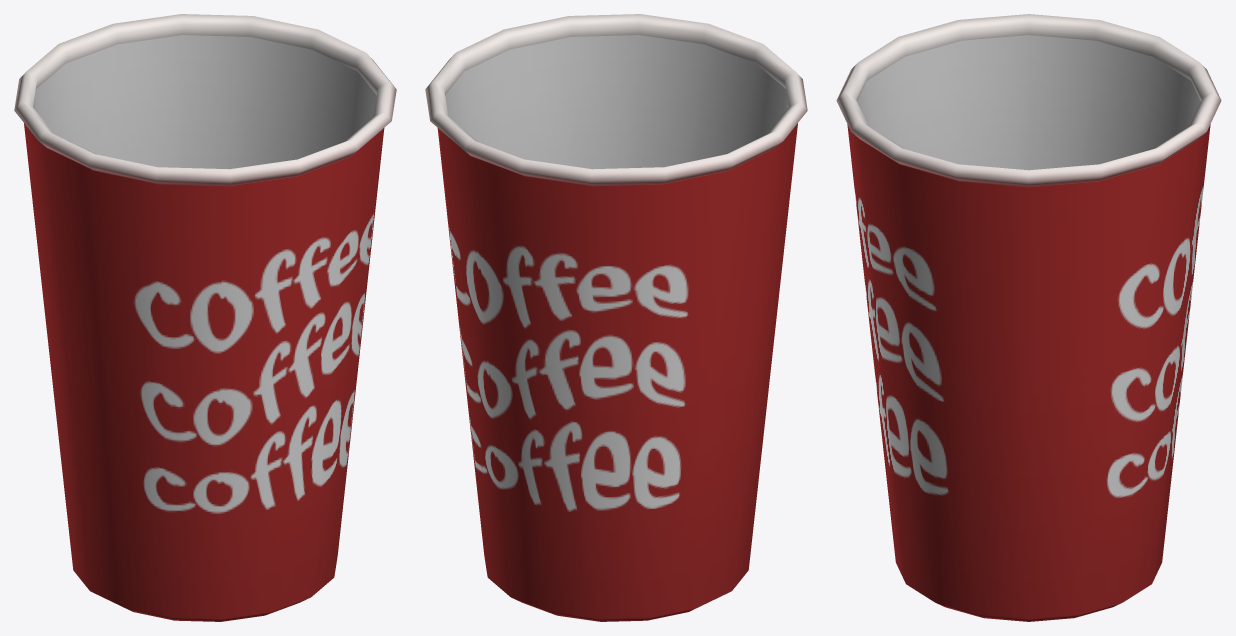
Rendered from ToGo_Cup_Lrg_01.fbx.
3 renders of one model, left to right at view 1: azimuth 30°, elevation 25°; view 2: azimuth 150°, elevation 25°; view 3: azimuth 270°, elevation 25°, orthographic.
Parts seen in each view (by area): view 1: ToGo_Cup_Lrg_01; view 2: ToGo_Cup_Lrg_01; view 3: ToGo_Cup_Lrg_01.
Part boxes in pixels (x1,y1,x2,y2): ToGo_Cup_Lrg_01: (14,14,396,621); ToGo_Cup_Lrg_01: (425,14,807,621); ToGo_Cup_Lrg_01: (836,14,1221,621).
Bounding box in the file's own units: 51.68 × 71.03 × 51.68.
